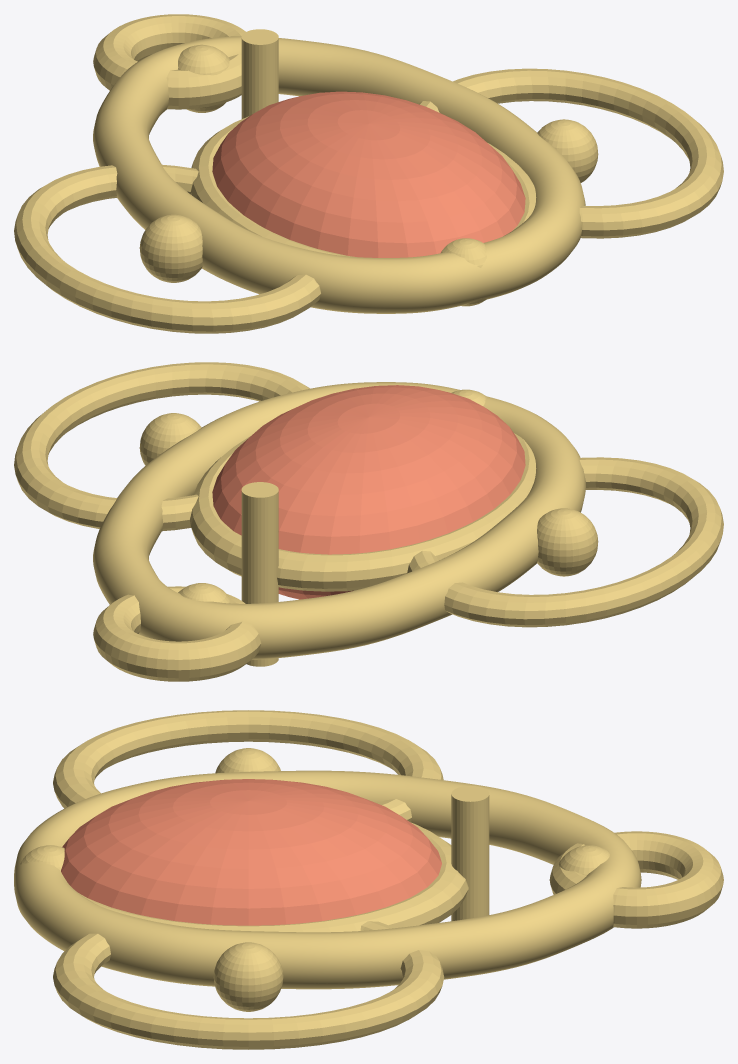
Rendered from 08_gold_coral_pendant.fbx.
3 views of the same model, one above another, from view 1: azimuth 30°, elevation 25°; view 2: azimuth 150°, elevation 25°; view 3: azimuth 270°, elevation 25° (orthographic).
Visible parts, largest first — view 1: Frame, Coral, Scroll_-1, Scroll_1, Bail, Bead_-1.45_-0.10, Bezel, Stem, Bead_1.45_-0.10, Bead_0.00_2.05, Bead_0.00_-1.35; view 2: Frame, Coral, Scroll_-1, Scroll_1, Bezel, Bail, Stem, Bead_-1.45_-0.10, Bead_1.45_-0.10, Bead_0.00_2.05; view 3: Frame, Coral, Scroll_1, Scroll_-1, Bail, Bezel, Stem, Bead_1.45_-0.10, Bead_-1.45_-0.10, Bead_0.00_2.05, Bead_0.00_-1.35.
Part boxes in pixels (x1,y1,x2,y2): Frame: (93, 36, 585, 313); Coral: (212, 91, 525, 257); Scroll_-1: (14, 164, 321, 333); Scroll_1: (418, 68, 723, 238); Bail: (93, 14, 245, 109); Bead_-1.45_-0.10: (139, 214, 202, 282); Bezel: (191, 116, 536, 256); Stem: (241, 29, 278, 118); Bead_1.45_-0.10: (537, 119, 598, 182); Bead_0.00_2.05: (178, 44, 229, 112); Bead_0.00_-1.35: (441, 238, 486, 306); Frame: (93, 382, 585, 659); Coral: (212, 385, 525, 599); Scroll_-1: (407, 457, 723, 627); Scroll_1: (14, 362, 309, 531); Bezel: (190, 433, 536, 591); Bail: (93, 586, 261, 681); Stem: (241, 482, 278, 666); Bead_-1.45_-0.10: (537, 508, 598, 576); Bead_1.45_-0.10: (139, 413, 201, 465); Bead_0.00_2.05: (178, 583, 229, 603); Frame: (14, 770, 641, 989); Coral: (61, 779, 441, 925); Scroll_1: (53, 921, 444, 1049); Scroll_-1: (53, 710, 443, 822); Bail: (549, 831, 723, 928); Bezel: (79, 822, 468, 932); Stem: (451, 785, 489, 921); Bead_1.45_-0.10: (213, 942, 283, 1011); Bead_-1.45_-0.10: (215, 748, 280, 773); Bead_0.00_2.05: (559, 845, 609, 875); Bead_0.00_-1.35: (20, 845, 64, 870).
Bounding box in the file's own units: 4.8 × 1.2 × 4.48.
